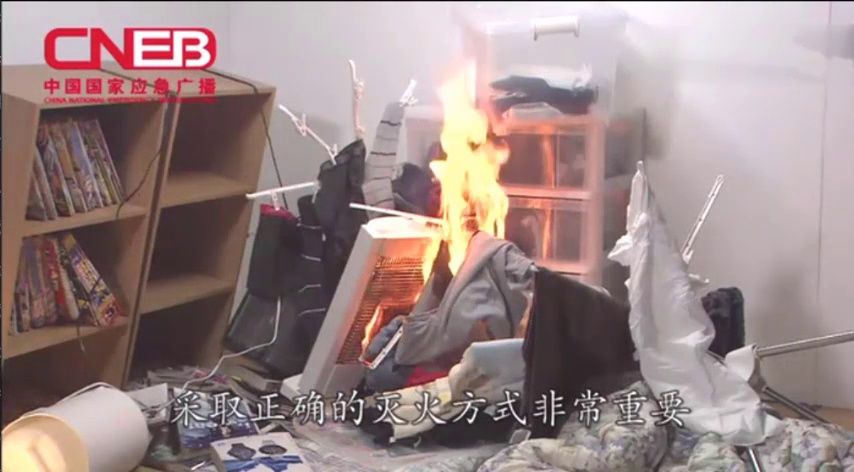fire: (416, 22, 530, 297)
